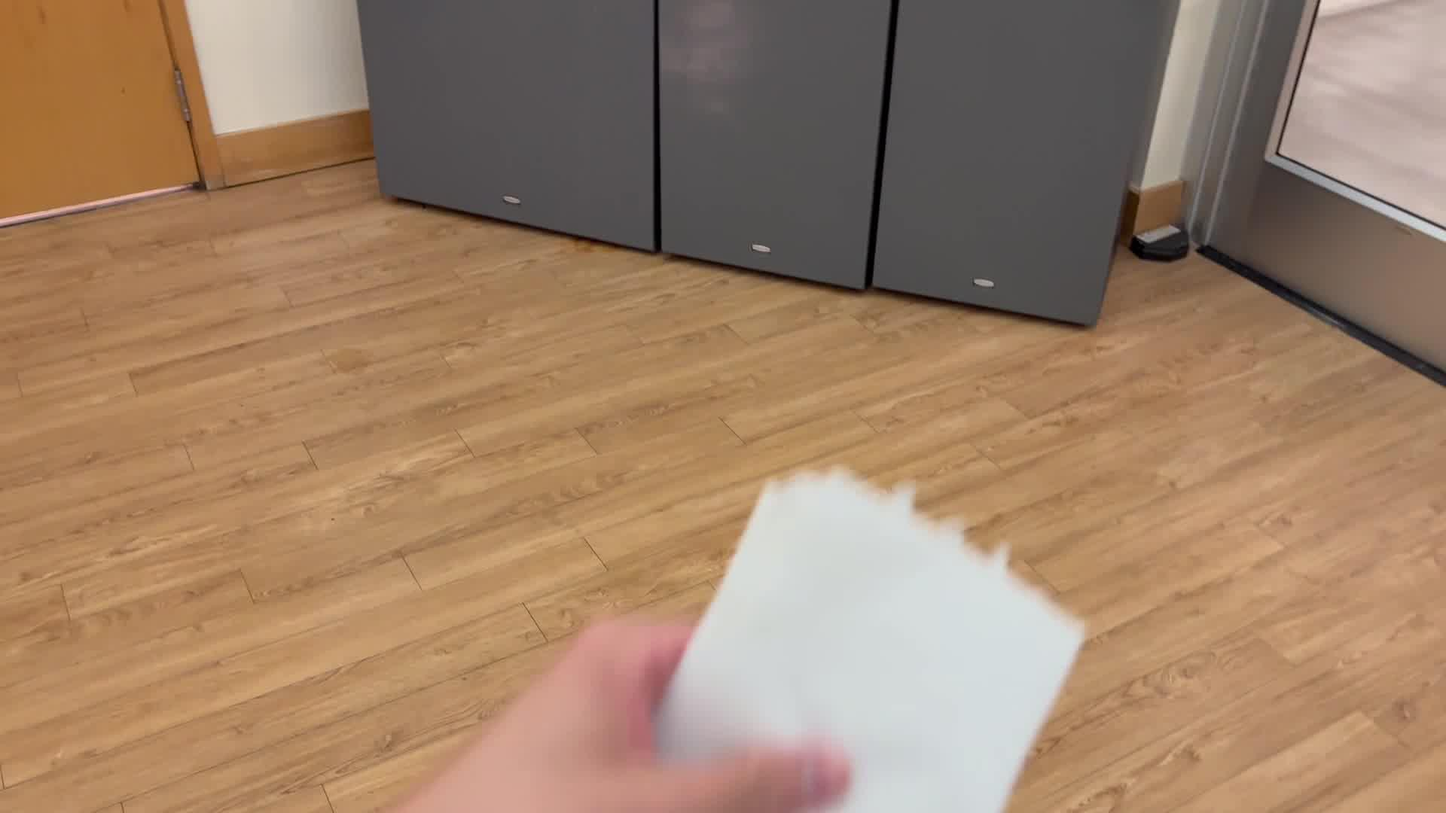napkin: (618, 442, 1152, 813)
